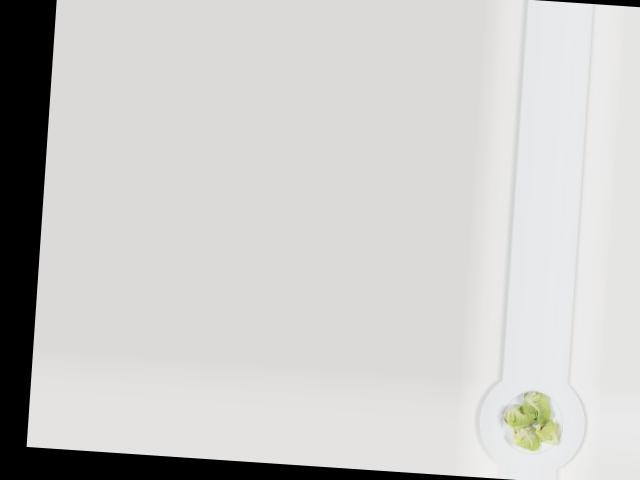lettuce: (499, 383, 564, 451)
